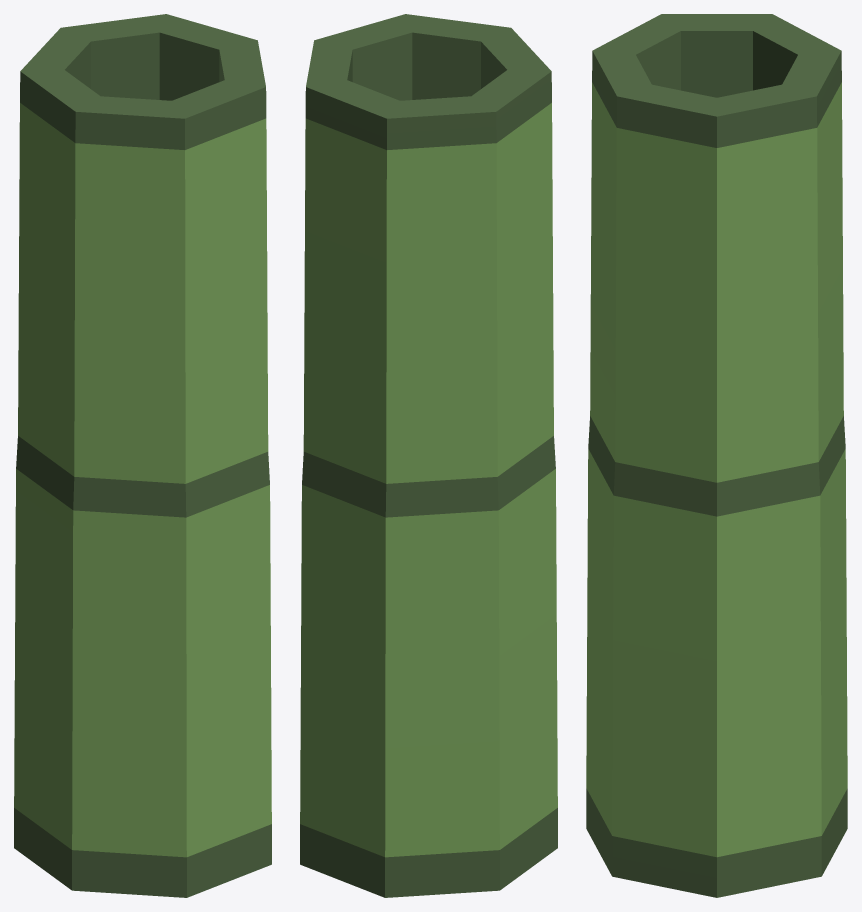
Rendered from Bamboo_Crop.glb.
The picture shows the model from 3 angles, left to right: view 1: azimuth 30°, elevation 25°; view 2: azimuth 150°, elevation 25°; view 3: azimuth 270°, elevation 25°; orthographic projection.
Parts seen in each view (by area): view 1: Bamboo_Crop; view 2: Bamboo_Crop; view 3: Bamboo_Crop.
Boxes of the visible parts, box(x1,y1,x2,y2) form: Bamboo_Crop: box(14, 14, 271, 897); Bamboo_Crop: box(300, 14, 557, 897); Bamboo_Crop: box(586, 14, 847, 897).
Bounding box in the file's own units: 0.0968 × 0.3264 × 0.0993.
